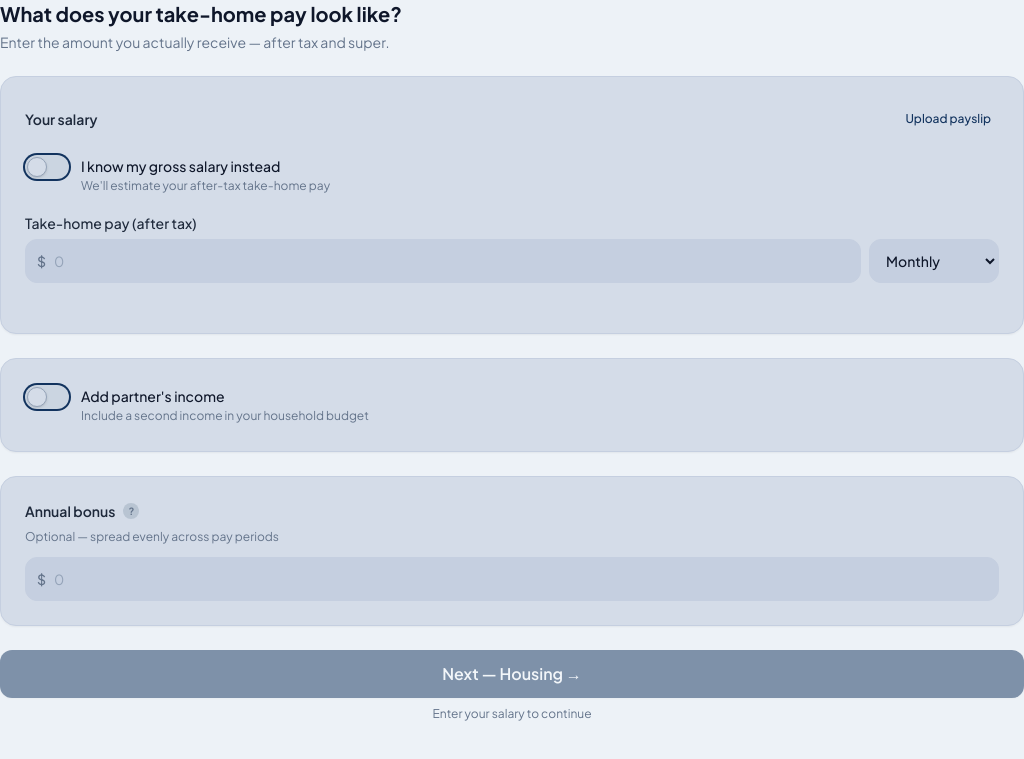
Test: StepIncome — partner salary toggle › disabling partner toggle hides the partner section
Step 1. Click the checkbox labelled "partner" → point(197, 404), box [25,385,369,423]
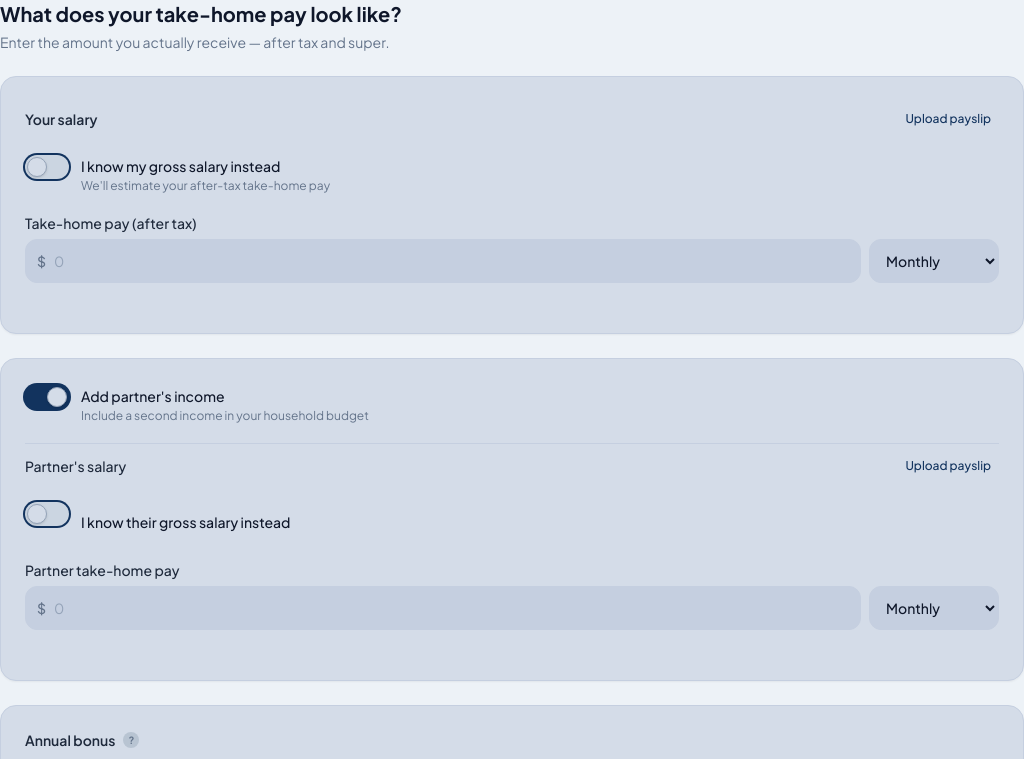
Expected: the element with test id "partner-section" is shown, [25,443,999,656]
Step 2. Click the checkbox labelled "partner" → point(197, 404), box [25,385,369,423]
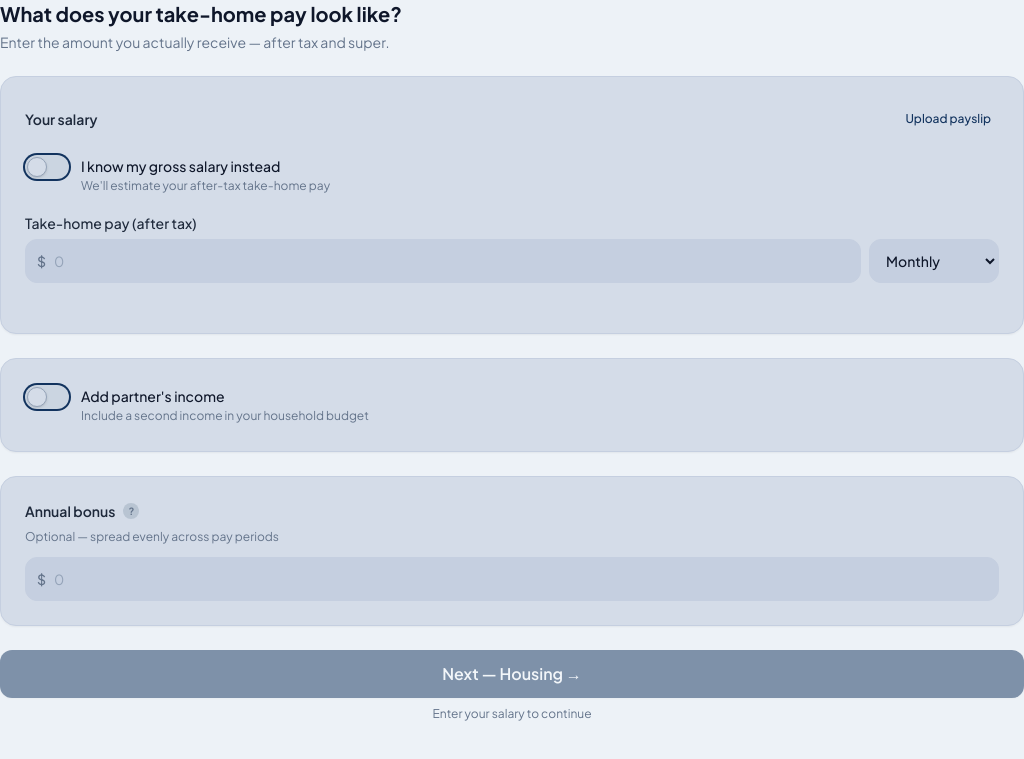
Expected: the element with test id "partner-section" is gone
